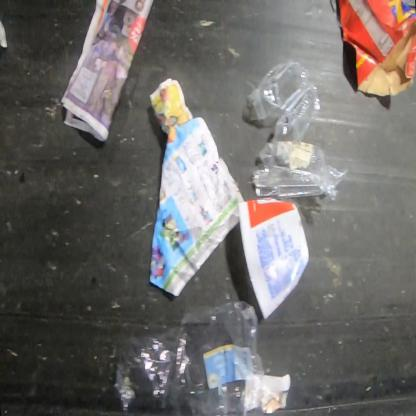cardboard: (337, 0, 415, 100)
rigid_plastic: (246, 62, 349, 200), (238, 197, 311, 322)
soft_plastic: (114, 299, 265, 415)
